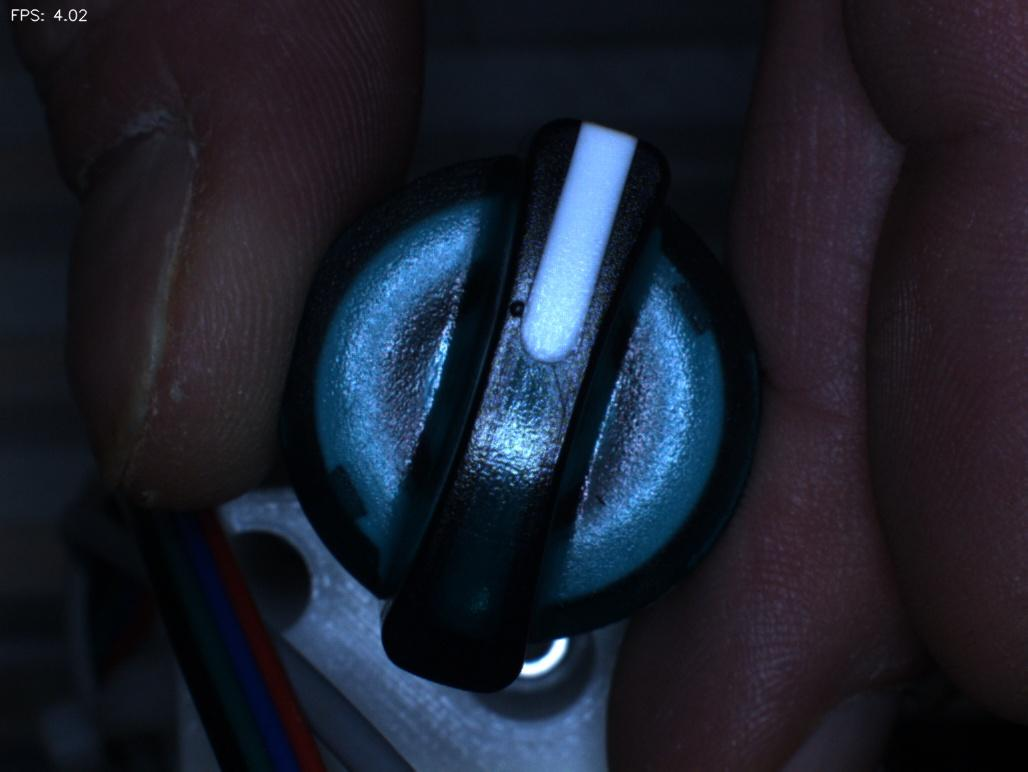Choc: (472, 268, 568, 352)
